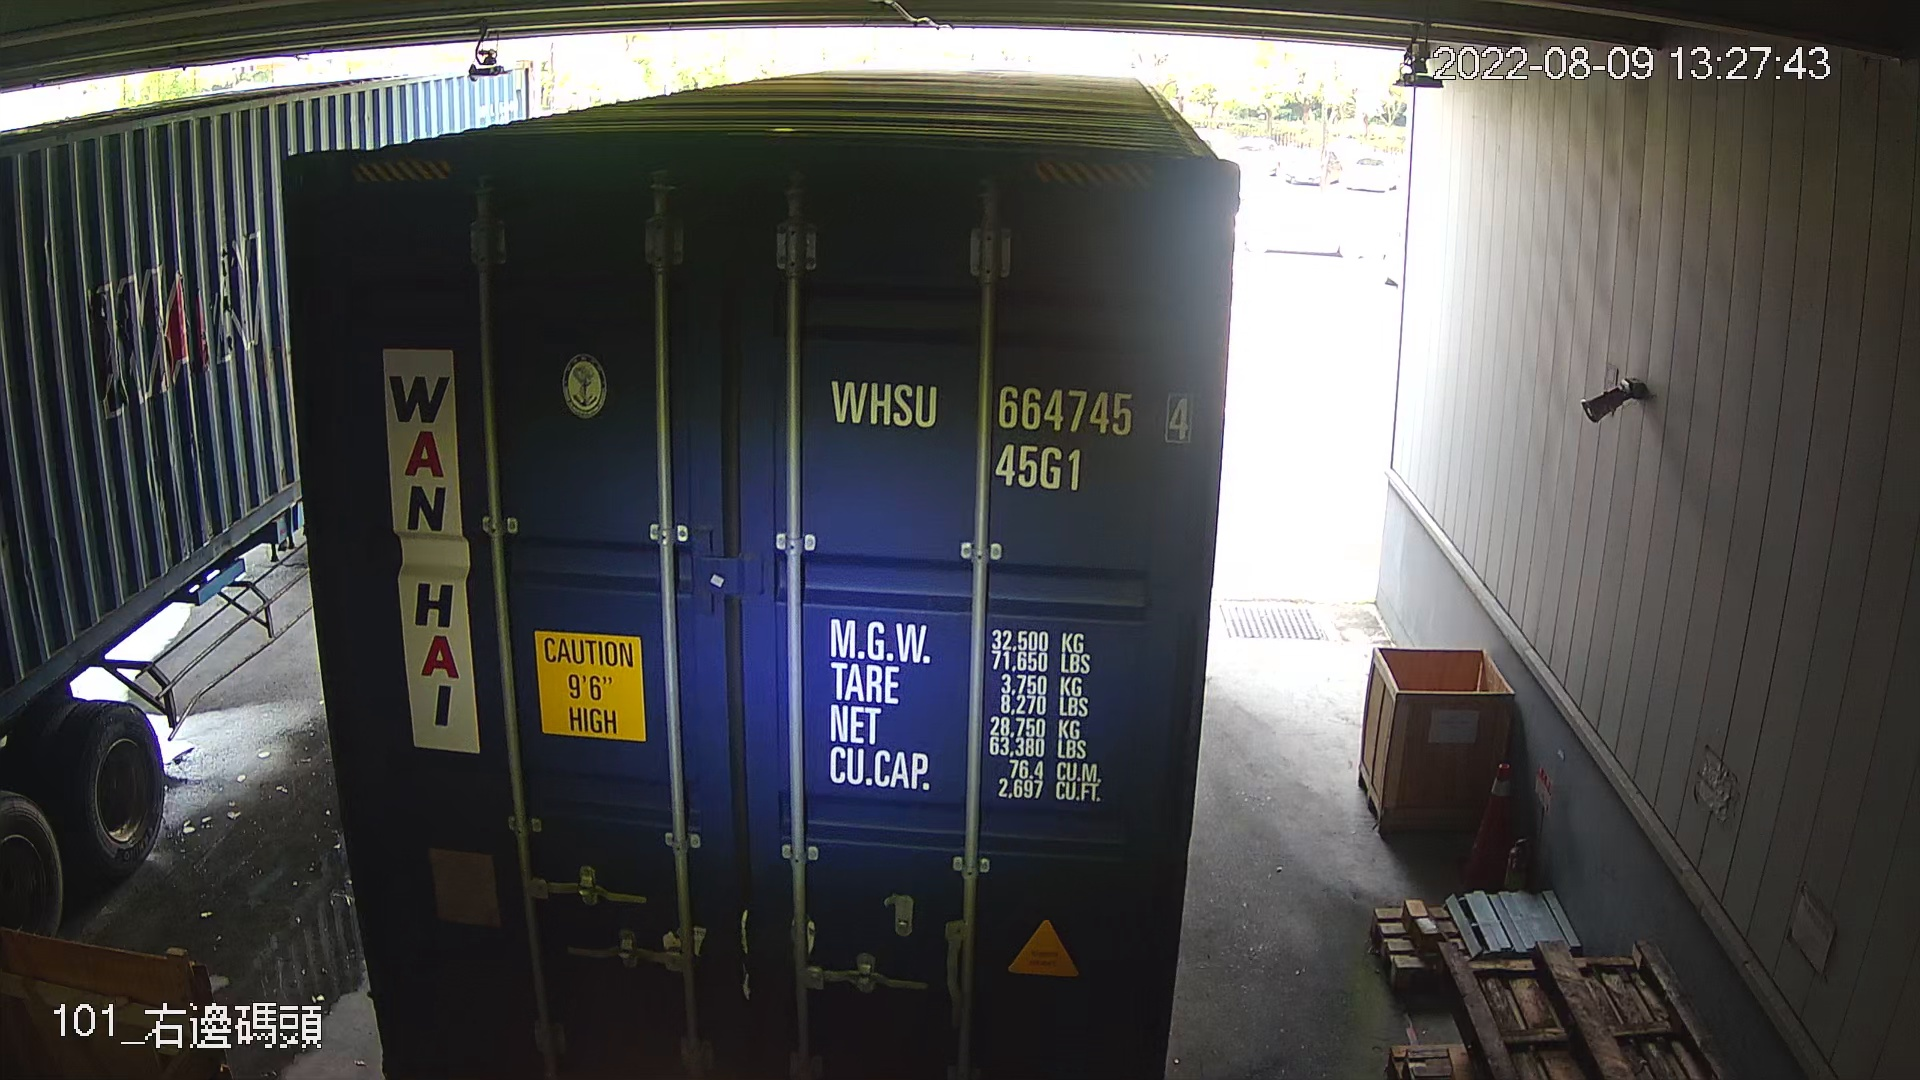container: (820, 363, 1203, 497)
